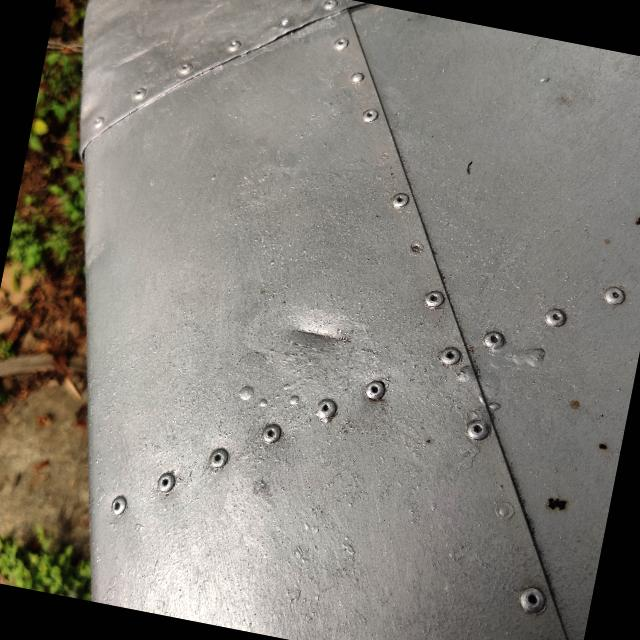dent: (256, 278, 371, 388)
